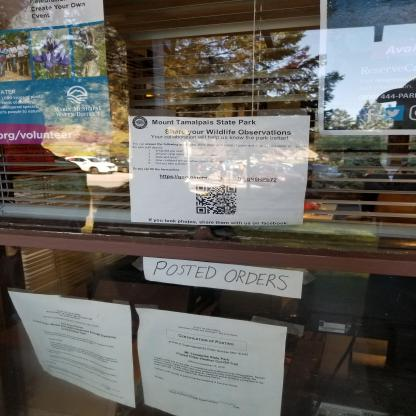qr: (195, 182, 239, 215)
